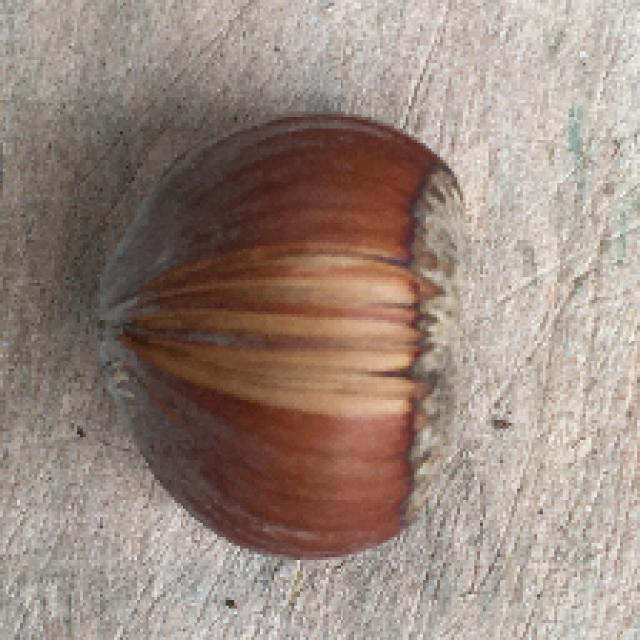qualityHazelnut: (98, 113, 474, 561)
